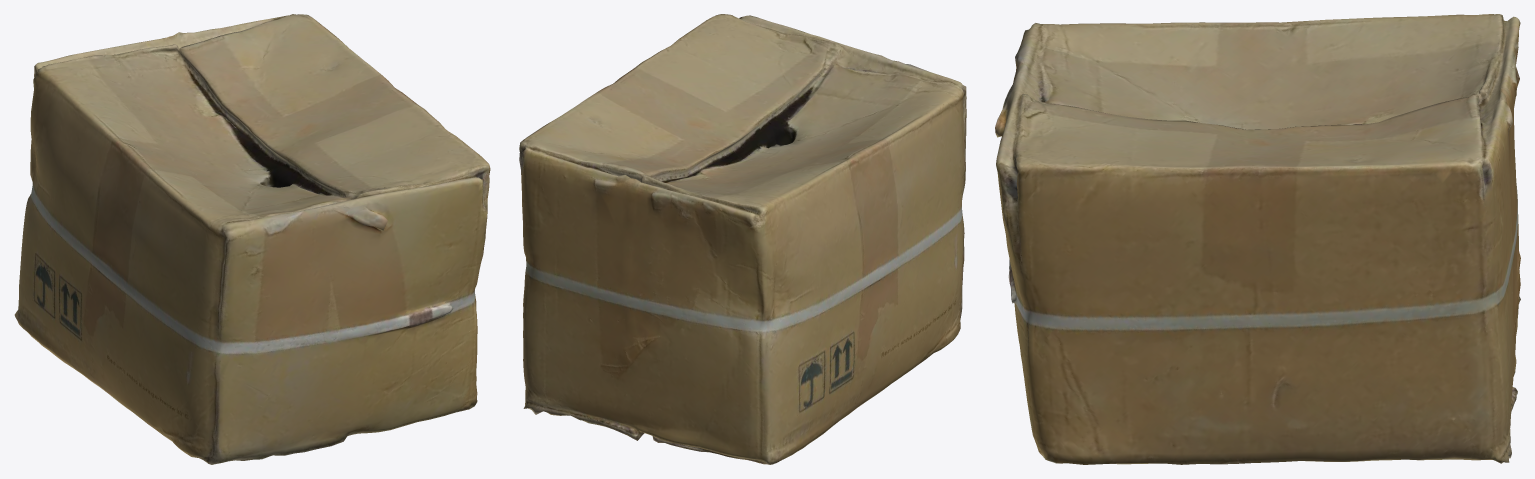
The model's file is cardboard_box_01_1k.glb.
3 views of the same model, side by side, from view 1: azimuth 30°, elevation 25°; view 2: azimuth 150°, elevation 25°; view 3: azimuth 270°, elevation 25° (orthographic). The views are drawn at different scales.
Parts seen in each view (by area): view 1: cardboard_box_01; view 2: cardboard_box_01; view 3: cardboard_box_01.
Boxes of the visible parts, x1,y1,x2,y2 form: cardboard_box_01: [14, 14, 490, 464]; cardboard_box_01: [519, 14, 966, 464]; cardboard_box_01: [995, 14, 1520, 464].
Bounding box in the file's own units: 0.387 × 0.3418 × 0.5159.
Materials: 1 (1 with a texture image).
